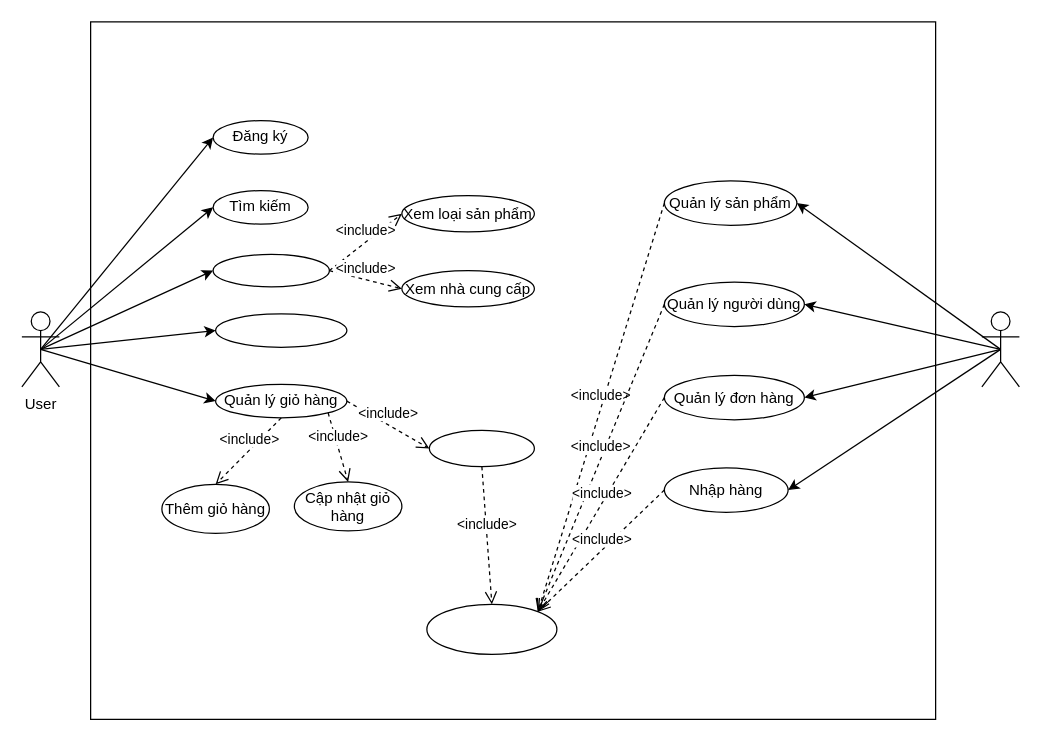
The diagram is 1044 pixels wide and 741 high, and some of its shapes have lost their labels. Each missing label, with the centre of its shape:
Admin: point (1000, 349)
Chi tiết sản phẩm: point (280, 329)
Xem sản phẩm: point (270, 270)
Đăng nhập: point (491, 628)
Đặt hàng: point (481, 448)
